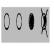correct: (29, 13, 34, 30)
not correct: (40, 7, 48, 39)
